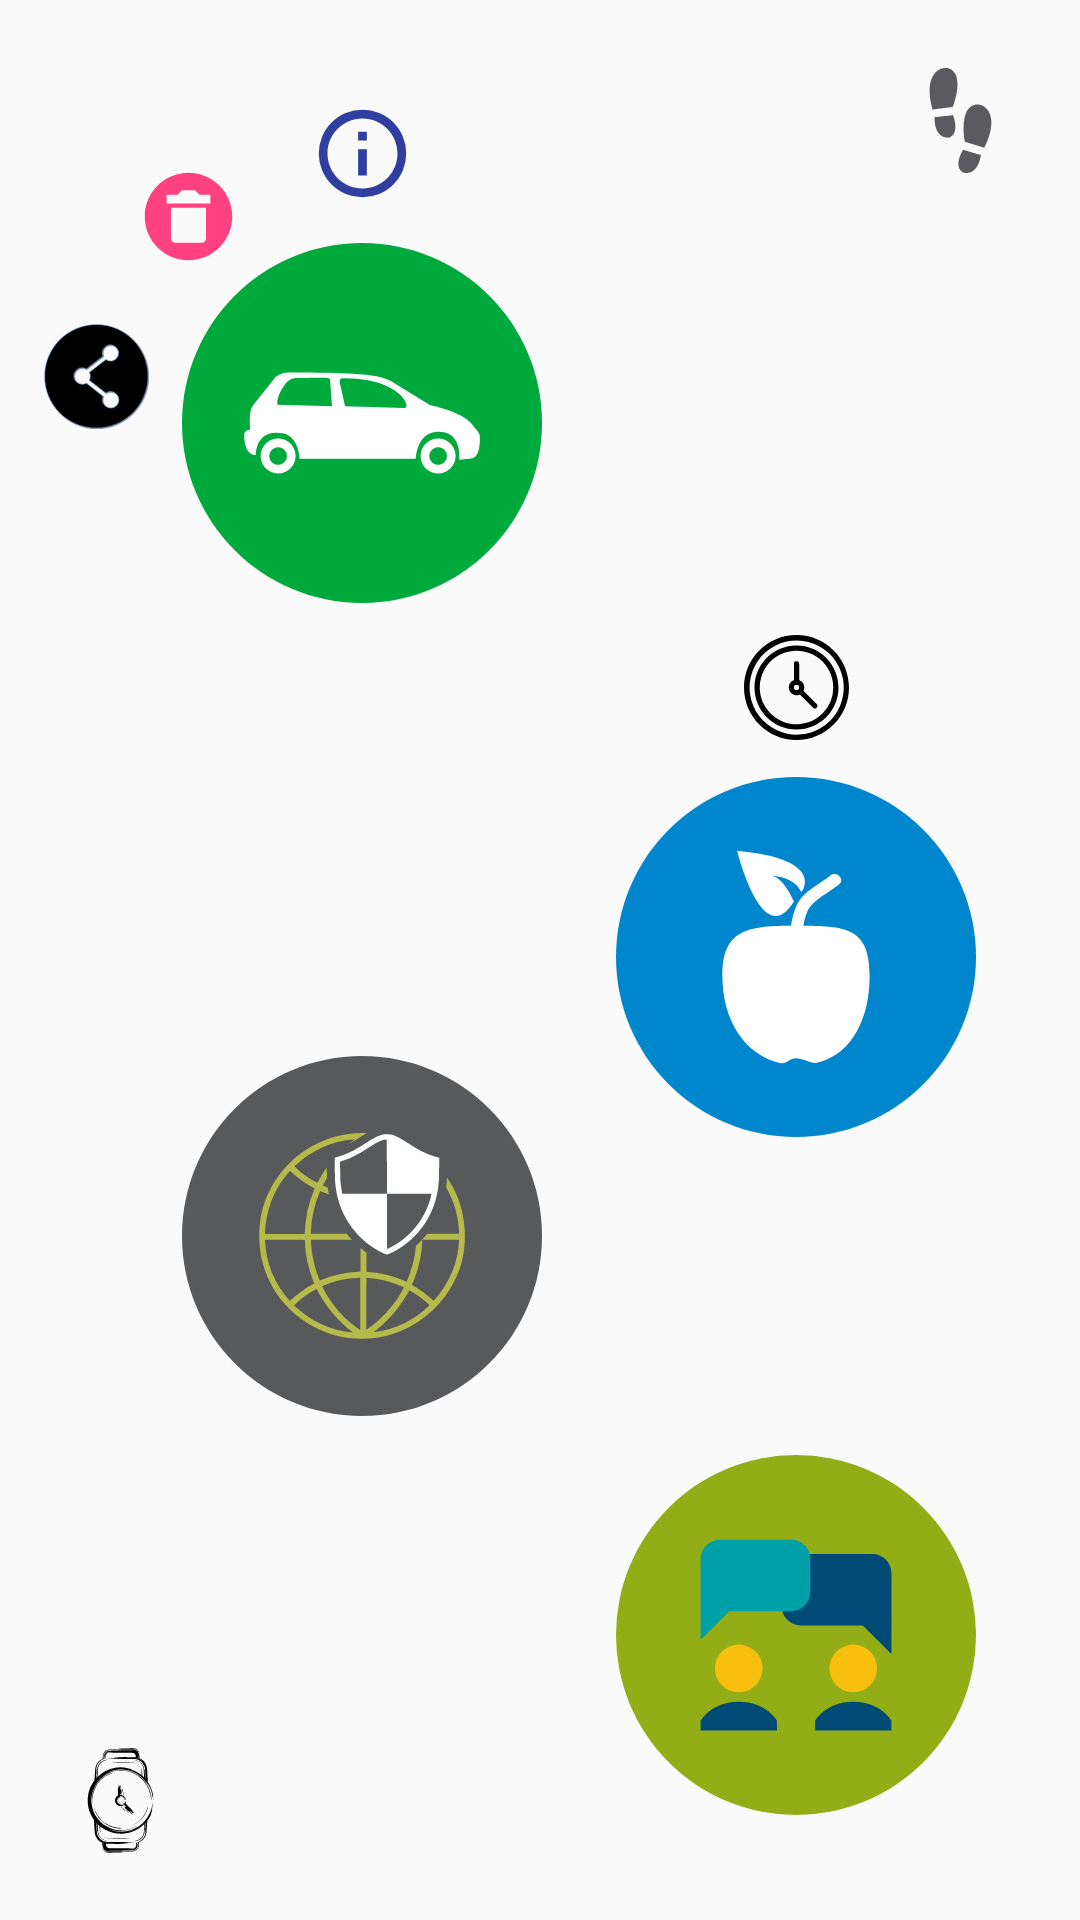

Icons on this 1080px×1920px Android screen, each with its box as {"left": x1, "top": y1, "right": x2, "bottom": y2}:
apple: {"left": 616, "top": 777, "right": 976, "bottom": 1137}
car: {"left": 182, "top": 243, "right": 542, "bottom": 603}
chat: {"left": 616, "top": 1455, "right": 976, "bottom": 1815}
clock: {"left": 744, "top": 635, "right": 849, "bottom": 740}
delete: {"left": 144, "top": 172, "right": 233, "bottom": 261}
info: {"left": 318, "top": 109, "right": 407, "bottom": 198}
safety: {"left": 182, "top": 1056, "right": 542, "bottom": 1416}
share: {"left": 44, "top": 324, "right": 149, "bottom": 429}
step: {"left": 929, "top": 68, "right": 992, "bottom": 173}
watch: {"left": 87, "top": 1748, "right": 154, "bottom": 1853}
